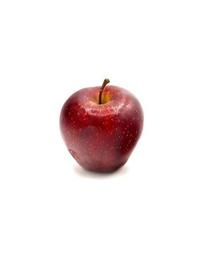apple: (59, 78, 143, 172)
